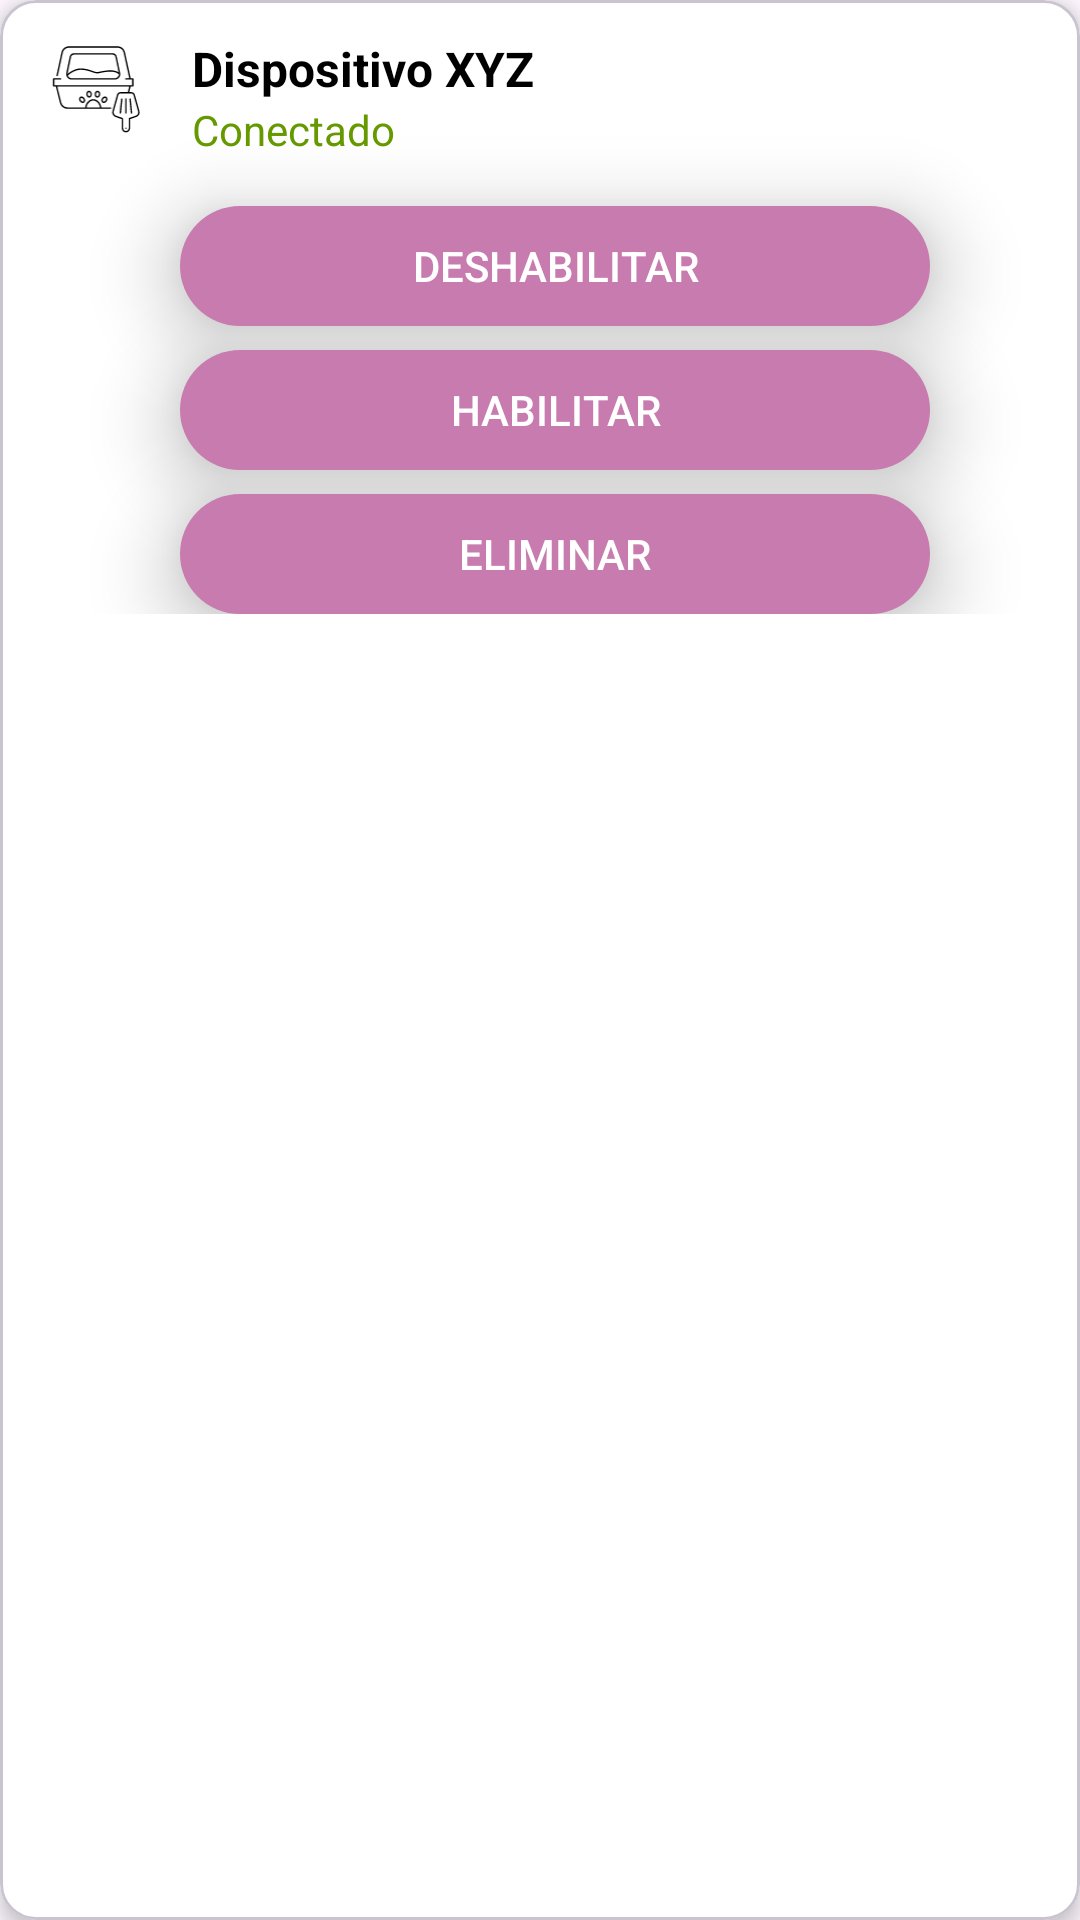

Icon click points for this 1080px×1920px phone screenshot, format (x,y):
noun litter box: (96,89)
